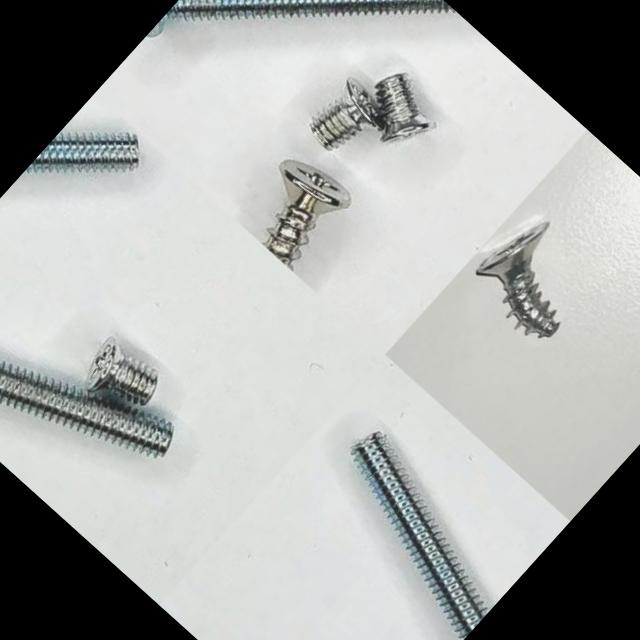Screw: (350, 433, 489, 640), (0, 363, 172, 457), (145, 0, 455, 37), (475, 221, 559, 337), (262, 161, 350, 270), (310, 74, 434, 149), (86, 338, 156, 407), (25, 134, 138, 170)
